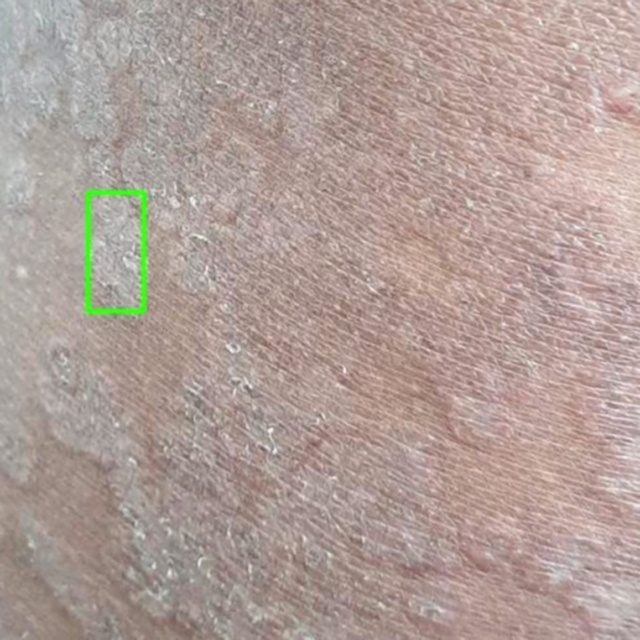Tinea Corporis: (88, 192, 144, 311)
